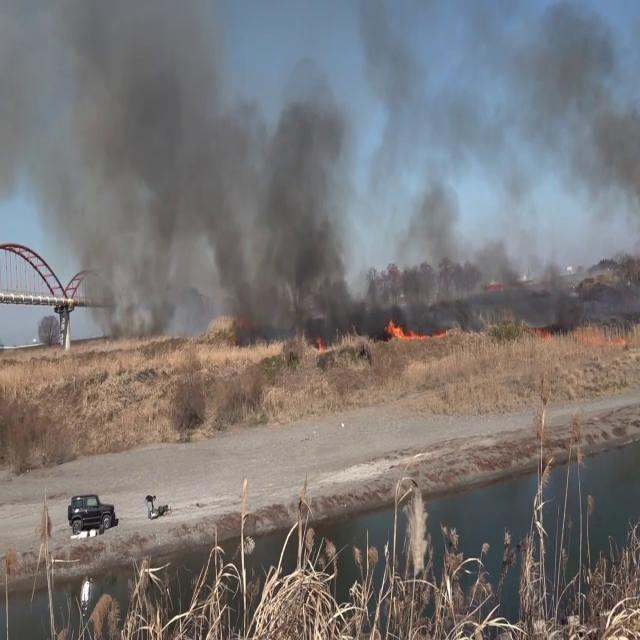Fire: (384, 314, 432, 345)
Smoke: (0, 1, 365, 342), (357, 0, 640, 314)
